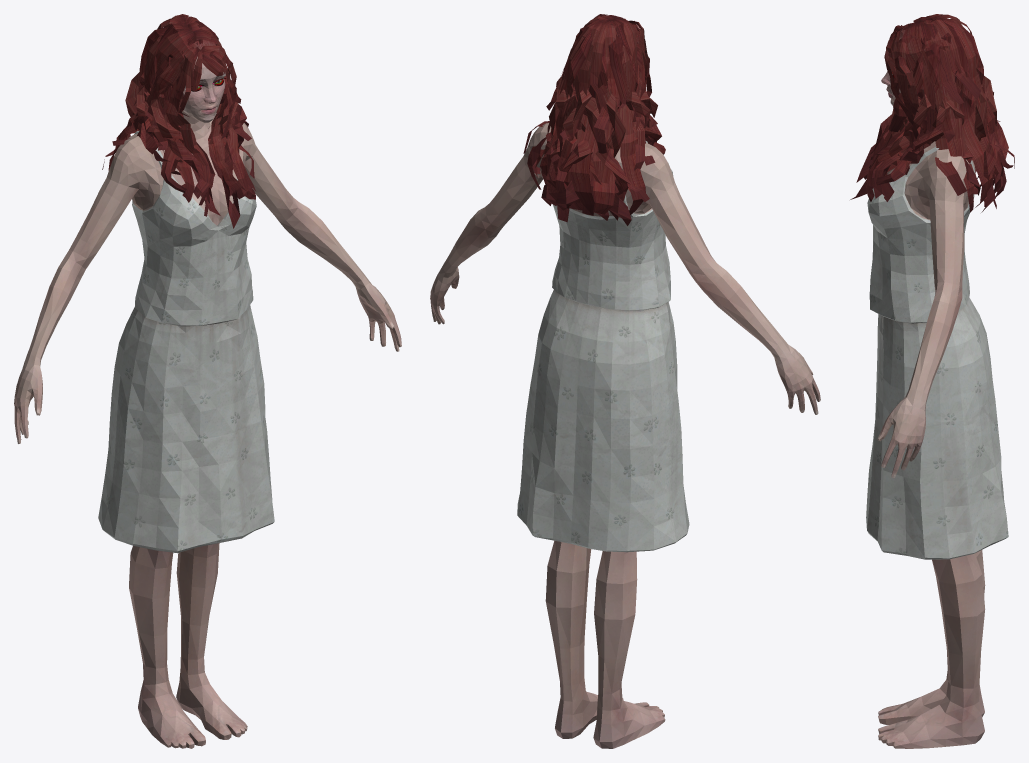
Rendered from eva.obj.
The picture shows the model from 3 angles, left to right: view 1: azimuth 30°, elevation 25°; view 2: azimuth 150°, elevation 25°; view 3: azimuth 270°, elevation 25°; orthographic projection.
Parts seen in each view (by area): view 1: rdmobj00.008_rdmobj00.008_mi_ghostEva_body, rdmobj01.006_rdmobj01.006_mi_ghostEva_hair; view 2: rdmobj00.008_rdmobj00.008_mi_ghostEva_body, rdmobj01.006_rdmobj01.006_mi_ghostEva_hair; view 3: rdmobj00.008_rdmobj00.008_mi_ghostEva_body, rdmobj01.006_rdmobj01.006_mi_ghostEva_hair.
Part boxes in pixels (x1,y1,x2,y2): rdmobj00.008_rdmobj00.008_mi_ghostEva_body: [14, 39, 401, 748]; rdmobj01.006_rdmobj01.006_mi_ghostEva_hair: [102, 14, 255, 228]; rdmobj00.008_rdmobj00.008_mi_ghostEva_body: [430, 35, 820, 748]; rdmobj01.006_rdmobj01.006_mi_ghostEva_hair: [523, 14, 665, 225]; rdmobj00.008_rdmobj00.008_mi_ghostEva_body: [866, 26, 1008, 748]; rdmobj01.006_rdmobj01.006_mi_ghostEva_hair: [850, 14, 1014, 212].
Size of the model in its own units: 3.1 by 5.49 by 1.15.
4 materials, 4 textured.
